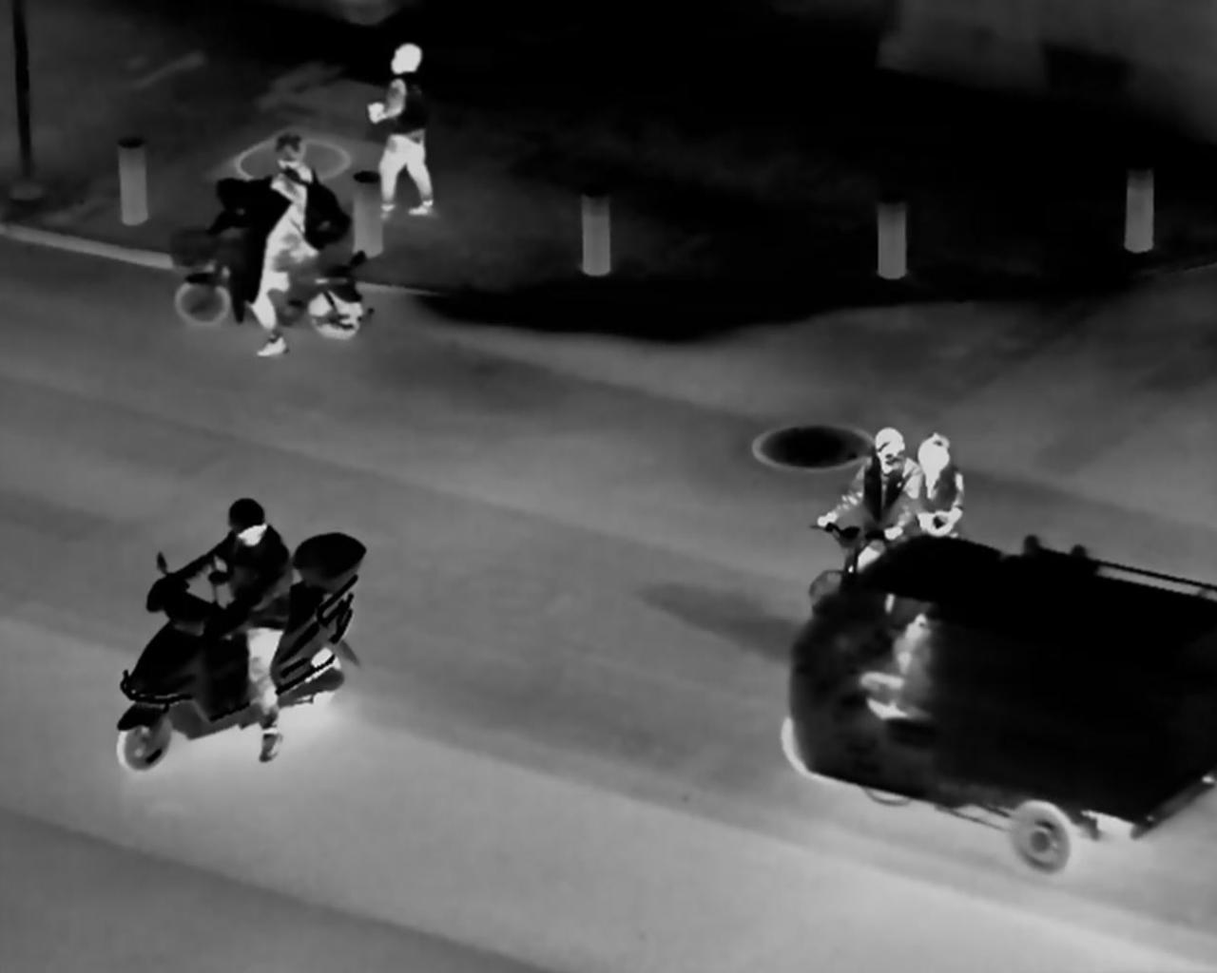person: (184, 493, 304, 751), (242, 132, 341, 356), (827, 407, 919, 630), (365, 31, 440, 227), (907, 422, 977, 554)
